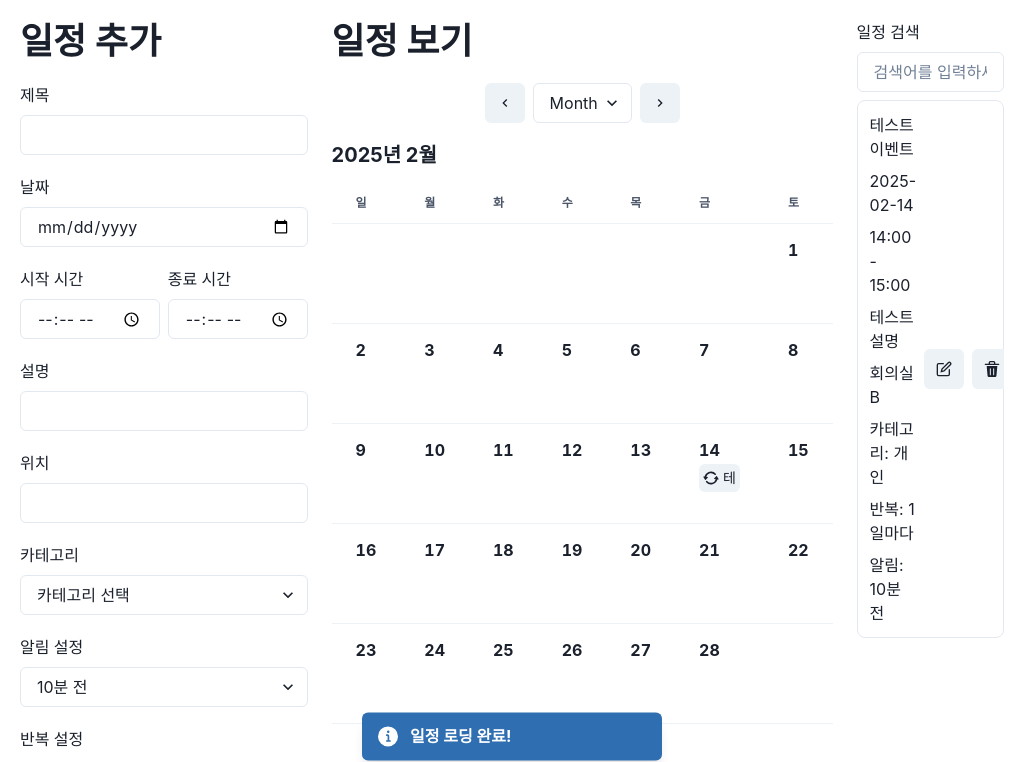
Test: 검색 기능 › 검색 결과가 없으면, "검색 결과가 없습니다."가 표시되어야 한다.
Expected: the element with test id "event-item-1" is shown, [857, 100, 1004, 638]
Type "테스트 이벤트" into the field labelled "일정 검색" at (930, 72), box [857, 52, 1004, 92]
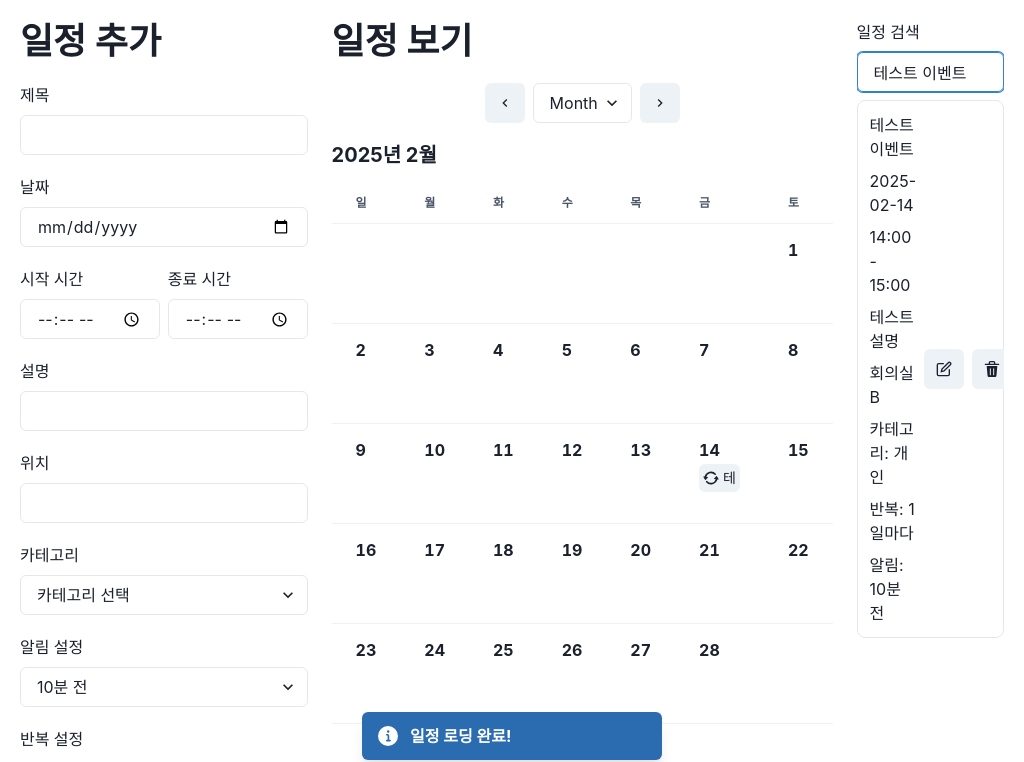
Expected: the element with test id "event-item-1" is shown, [857, 100, 1004, 638]
Replace the text in the field labelled "일정 검색" with "테스트 이벤트2" at (930, 72), box [857, 52, 1004, 92]
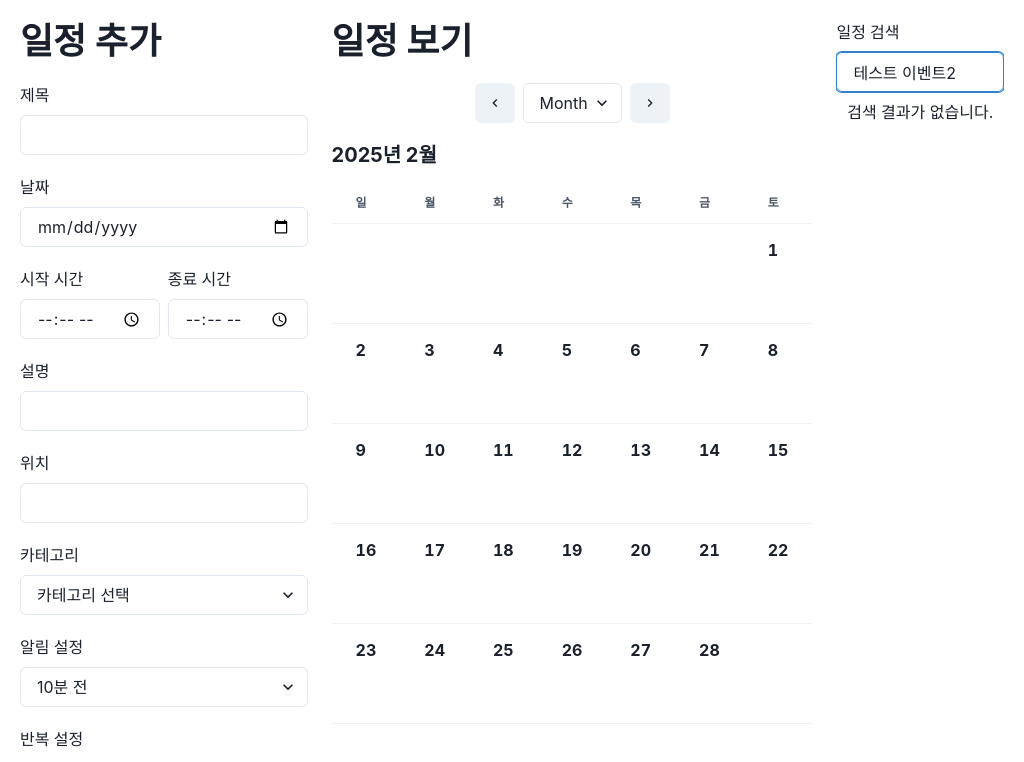
Now the text "검색 결과가 없습니다." is shown, box [847, 100, 993, 124]
